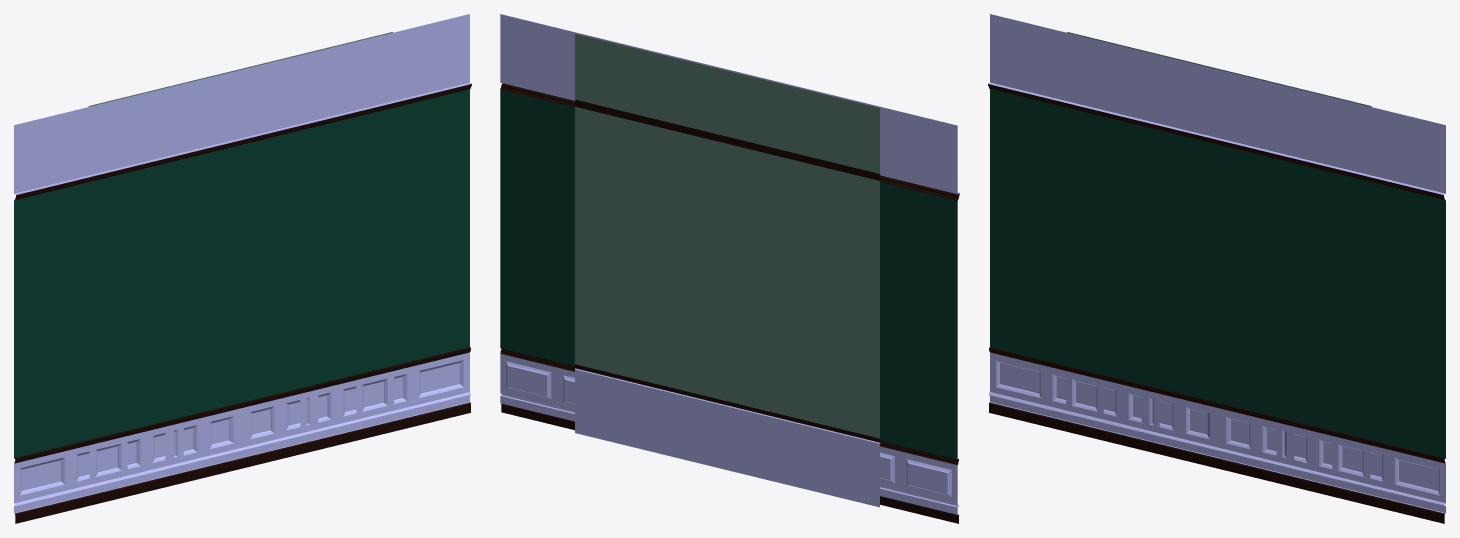
The model's file is Walls.fbx.
The picture shows the model from 3 angles, left to right: view 1: azimuth 30°, elevation 25°; view 2: azimuth 150°, elevation 25°; view 3: azimuth 330°, elevation 25°; orthographic projection.
Visible parts, largest first — view 1: WallDoor03, WallDoor01, WallWindow02, WallWindow01, Wallx2, WallDoor02, Wallx4.1; view 2: WallWC, WallDoor03, WallWC002, WallWC_window, WallDoor01; view 3: WallDoor03, WallDoor01, WallWindow02, WallDoor02, Wallx2, WallWindow01, Wallx4.1.
Boxes of the visible parts, left/top/right/bottom form: WallDoor03: left=14, top=14, right=471, bottom=523; WallDoor01: left=89, top=37, right=395, bottom=505; WallWindow02: left=90, top=32, right=396, bottom=496; WallWindow01: left=90, top=46, right=394, bottom=489; Wallx2: left=165, top=52, right=320, bottom=478; WallDoor02: left=89, top=47, right=393, bottom=490; Wallx4.1: left=90, top=49, right=394, bottom=487; WallWC: left=575, top=34, right=878, bottom=476; WallDoor03: left=500, top=14, right=959, bottom=523; WallWC002: left=575, top=34, right=879, bottom=480; WallWC_window: left=575, top=70, right=880, bottom=507; WallDoor01: left=588, top=36, right=883, bottom=504; WallDoor03: left=988, top=14, right=1445, bottom=523; WallDoor01: left=1063, top=33, right=1369, bottom=499; WallWindow02: left=1064, top=32, right=1370, bottom=505; WallDoor02: left=1066, top=47, right=1369, bottom=491; Wallx2: left=1140, top=62, right=1294, bottom=476; WallWindow01: left=1066, top=47, right=1370, bottom=481; Wallx4.1: left=1122, top=47, right=1363, bottom=481.
Bounding box in the file's own units: 600 × 500 × 7.59.
